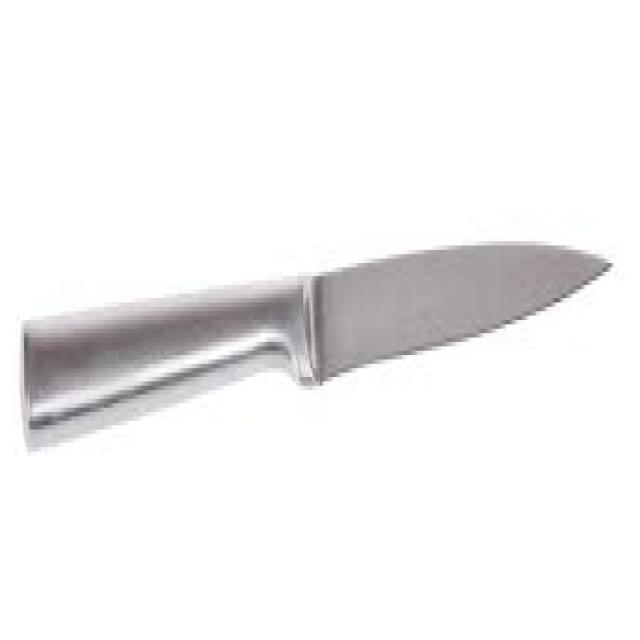Knife: (21, 237, 612, 447)
